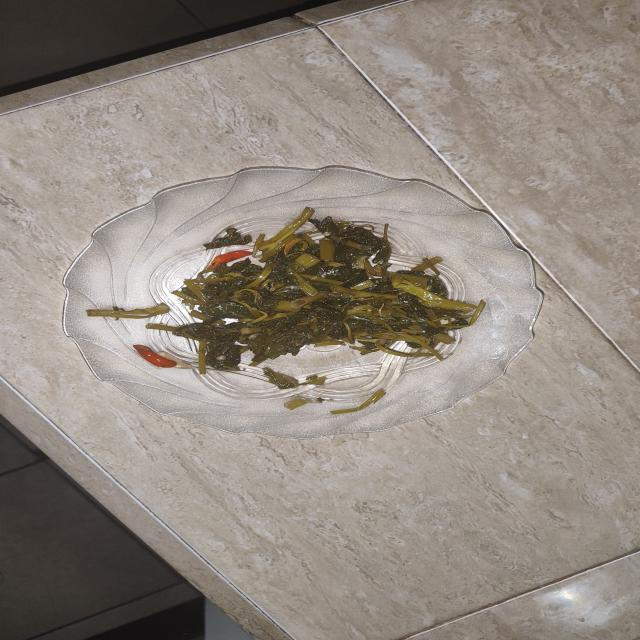tumis_kangkung: (146, 207, 485, 374)
